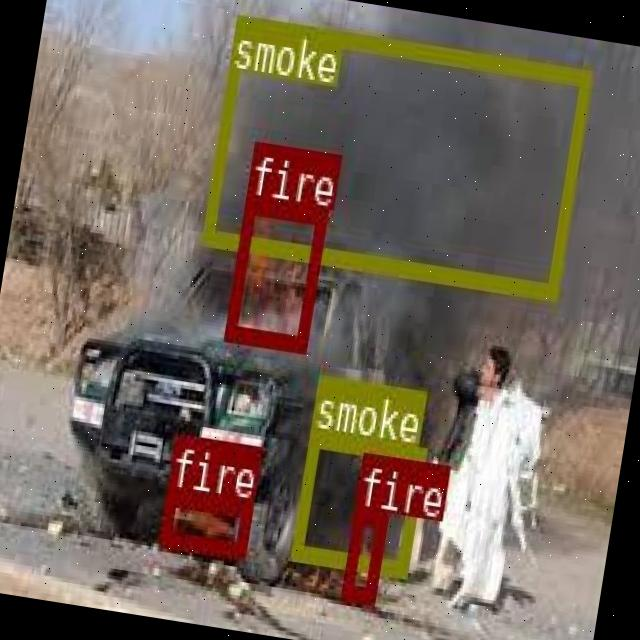fire: (224, 195, 326, 349), (156, 486, 251, 555), (341, 506, 386, 602)
smoke: (200, 12, 590, 295), (290, 428, 426, 576)
